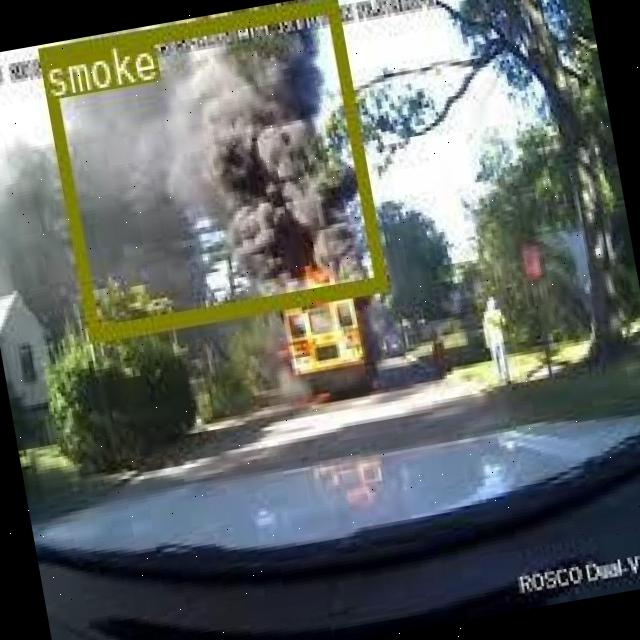smoke: (35, 0, 383, 338)
